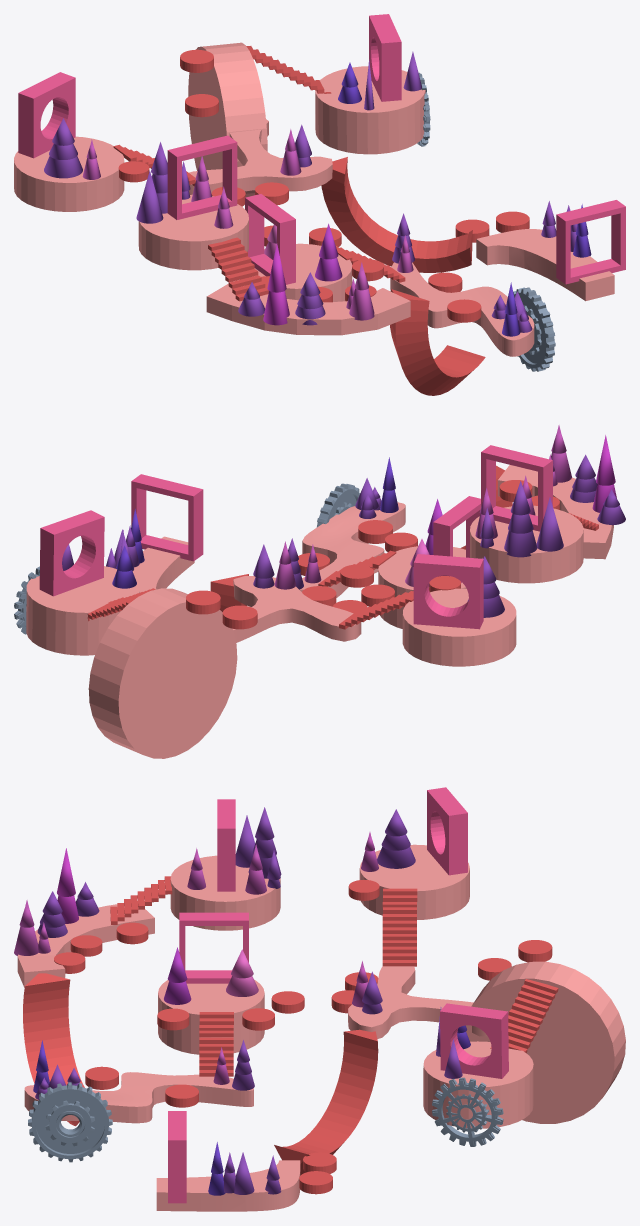
The picture shows the model from 3 angles, top to bottom: view 1: azimuth 30°, elevation 25°; view 2: azimuth 150°, elevation 25°; view 3: azimuth 270°, elevation 25°; orthographic projection. The views are drawn at different scales.
Parts seen in each view (by area): view 1: 立方体.001, 环体.002, 环体.001, gear34_gears_0, 柱体.069, 柱体.045, 柱体.050, 柱体.067, 柱体.066, 柱体.051, 柱体.068, 柱体.072 (+1 smaller); view 2: 立方体.001, gear34_gears_0, 柱体.050, 柱体.045, 柱体.053, 柱体.069, 环体.002, gear04_gears_0, 柱体.052, 柱体.054, 柱体.072; view 3: 立方体.001, 环体.002, gear34_gears_0, 环体.001, gear04_gears_0, 柱体.066, 柱体.067, 柱体.069, 柱体.045, 柱体.052, 柱体.053, 柱体.054 (+4 smaller).
Boxes of the visible parts, box(x1,y1,x2,y2) form: 立方体.001: box(14, 14, 625, 356); 环体.002: box(321, 157, 472, 272); 环体.001: box(390, 289, 485, 395); gear34_gears_0: box(513, 287, 555, 371); 柱体.069: box(447, 299, 481, 322); 柱体.045: box(180, 49, 213, 72); 柱体.050: box(185, 94, 218, 117); 柱体.067: box(496, 211, 529, 232); 柱体.066: box(428, 272, 462, 292); 柱体.051: box(118, 161, 149, 182); 柱体.068: box(455, 219, 489, 242); 柱体.072: box(255, 182, 288, 205); 立方体.001: box(26, 425, 625, 758); gear34_gears_0: box(316, 483, 360, 527); 柱体.050: box(222, 605, 257, 629); 柱体.045: box(186, 590, 220, 614); 柱体.053: box(340, 564, 373, 587); 柱体.069: box(358, 520, 392, 543); 环体.002: box(210, 574, 248, 611); gear04_gears_0: box(14, 566, 39, 634); 柱体.052: box(361, 584, 394, 606); 柱体.054: box(385, 532, 417, 551); 柱体.072: box(302, 586, 336, 606); 立方体.001: box(14, 787, 625, 1211); 环体.002: box(274, 1029, 378, 1175); gear34_gears_0: box(28, 1082, 112, 1162); 环体.001: box(23, 973, 84, 1126); gear04_gears_0: box(432, 1077, 503, 1146); 柱体.066: box(165, 1084, 198, 1107); 柱体.067: box(299, 1171, 332, 1194); 柱体.069: box(85, 1066, 118, 1089); 柱体.045: box(518, 940, 552, 962); 柱体.052: box(271, 991, 304, 1013); 柱体.053: box(242, 1008, 274, 1030); 柱体.054: box(157, 1008, 189, 1030).
Bounding box in the file's own units: 5147 × 2322 × 5692.
